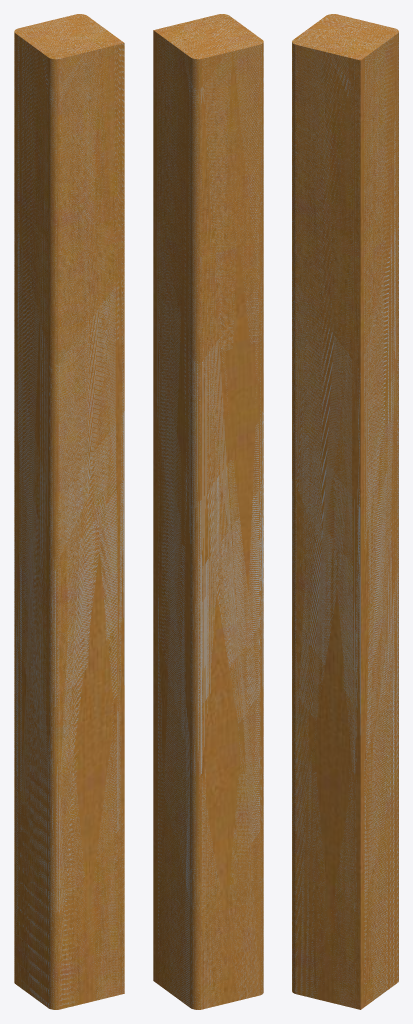
File: original-28.obj
3 views of the same model, side by side, from view 1: azimuth 30°, elevation 25°; view 2: azimuth 210°, elevation 25°; view 3: azimuth 330°, elevation 25° (orthographic).
Parts seen in each view (by area): view 1: End_Table_Leg__25_1_4_2/End_Table_Leg__25_1_4_/mesh25/mesh25-geo; view 2: End_Table_Leg__25_1_4_2/End_Table_Leg__25_1_4_/mesh25/mesh25-geo; view 3: End_Table_Leg__25_1_4_2/End_Table_Leg__25_1_4_/mesh25/mesh25-geo.
Boxes of the visible parts, box(x1,y1,x2,y2) form: End_Table_Leg__25_1_4_2/End_Table_Leg__25_1_4_/mesh25/mesh25-geo: box(14, 14, 124, 1009); End_Table_Leg__25_1_4_2/End_Table_Leg__25_1_4_/mesh25/mesh25-geo: box(153, 14, 263, 1009); End_Table_Leg__25_1_4_2/End_Table_Leg__25_1_4_/mesh25/mesh25-geo: box(292, 14, 398, 1009).
Size of the model in its own units: 0.0922 by 1.16 by 0.0923.
